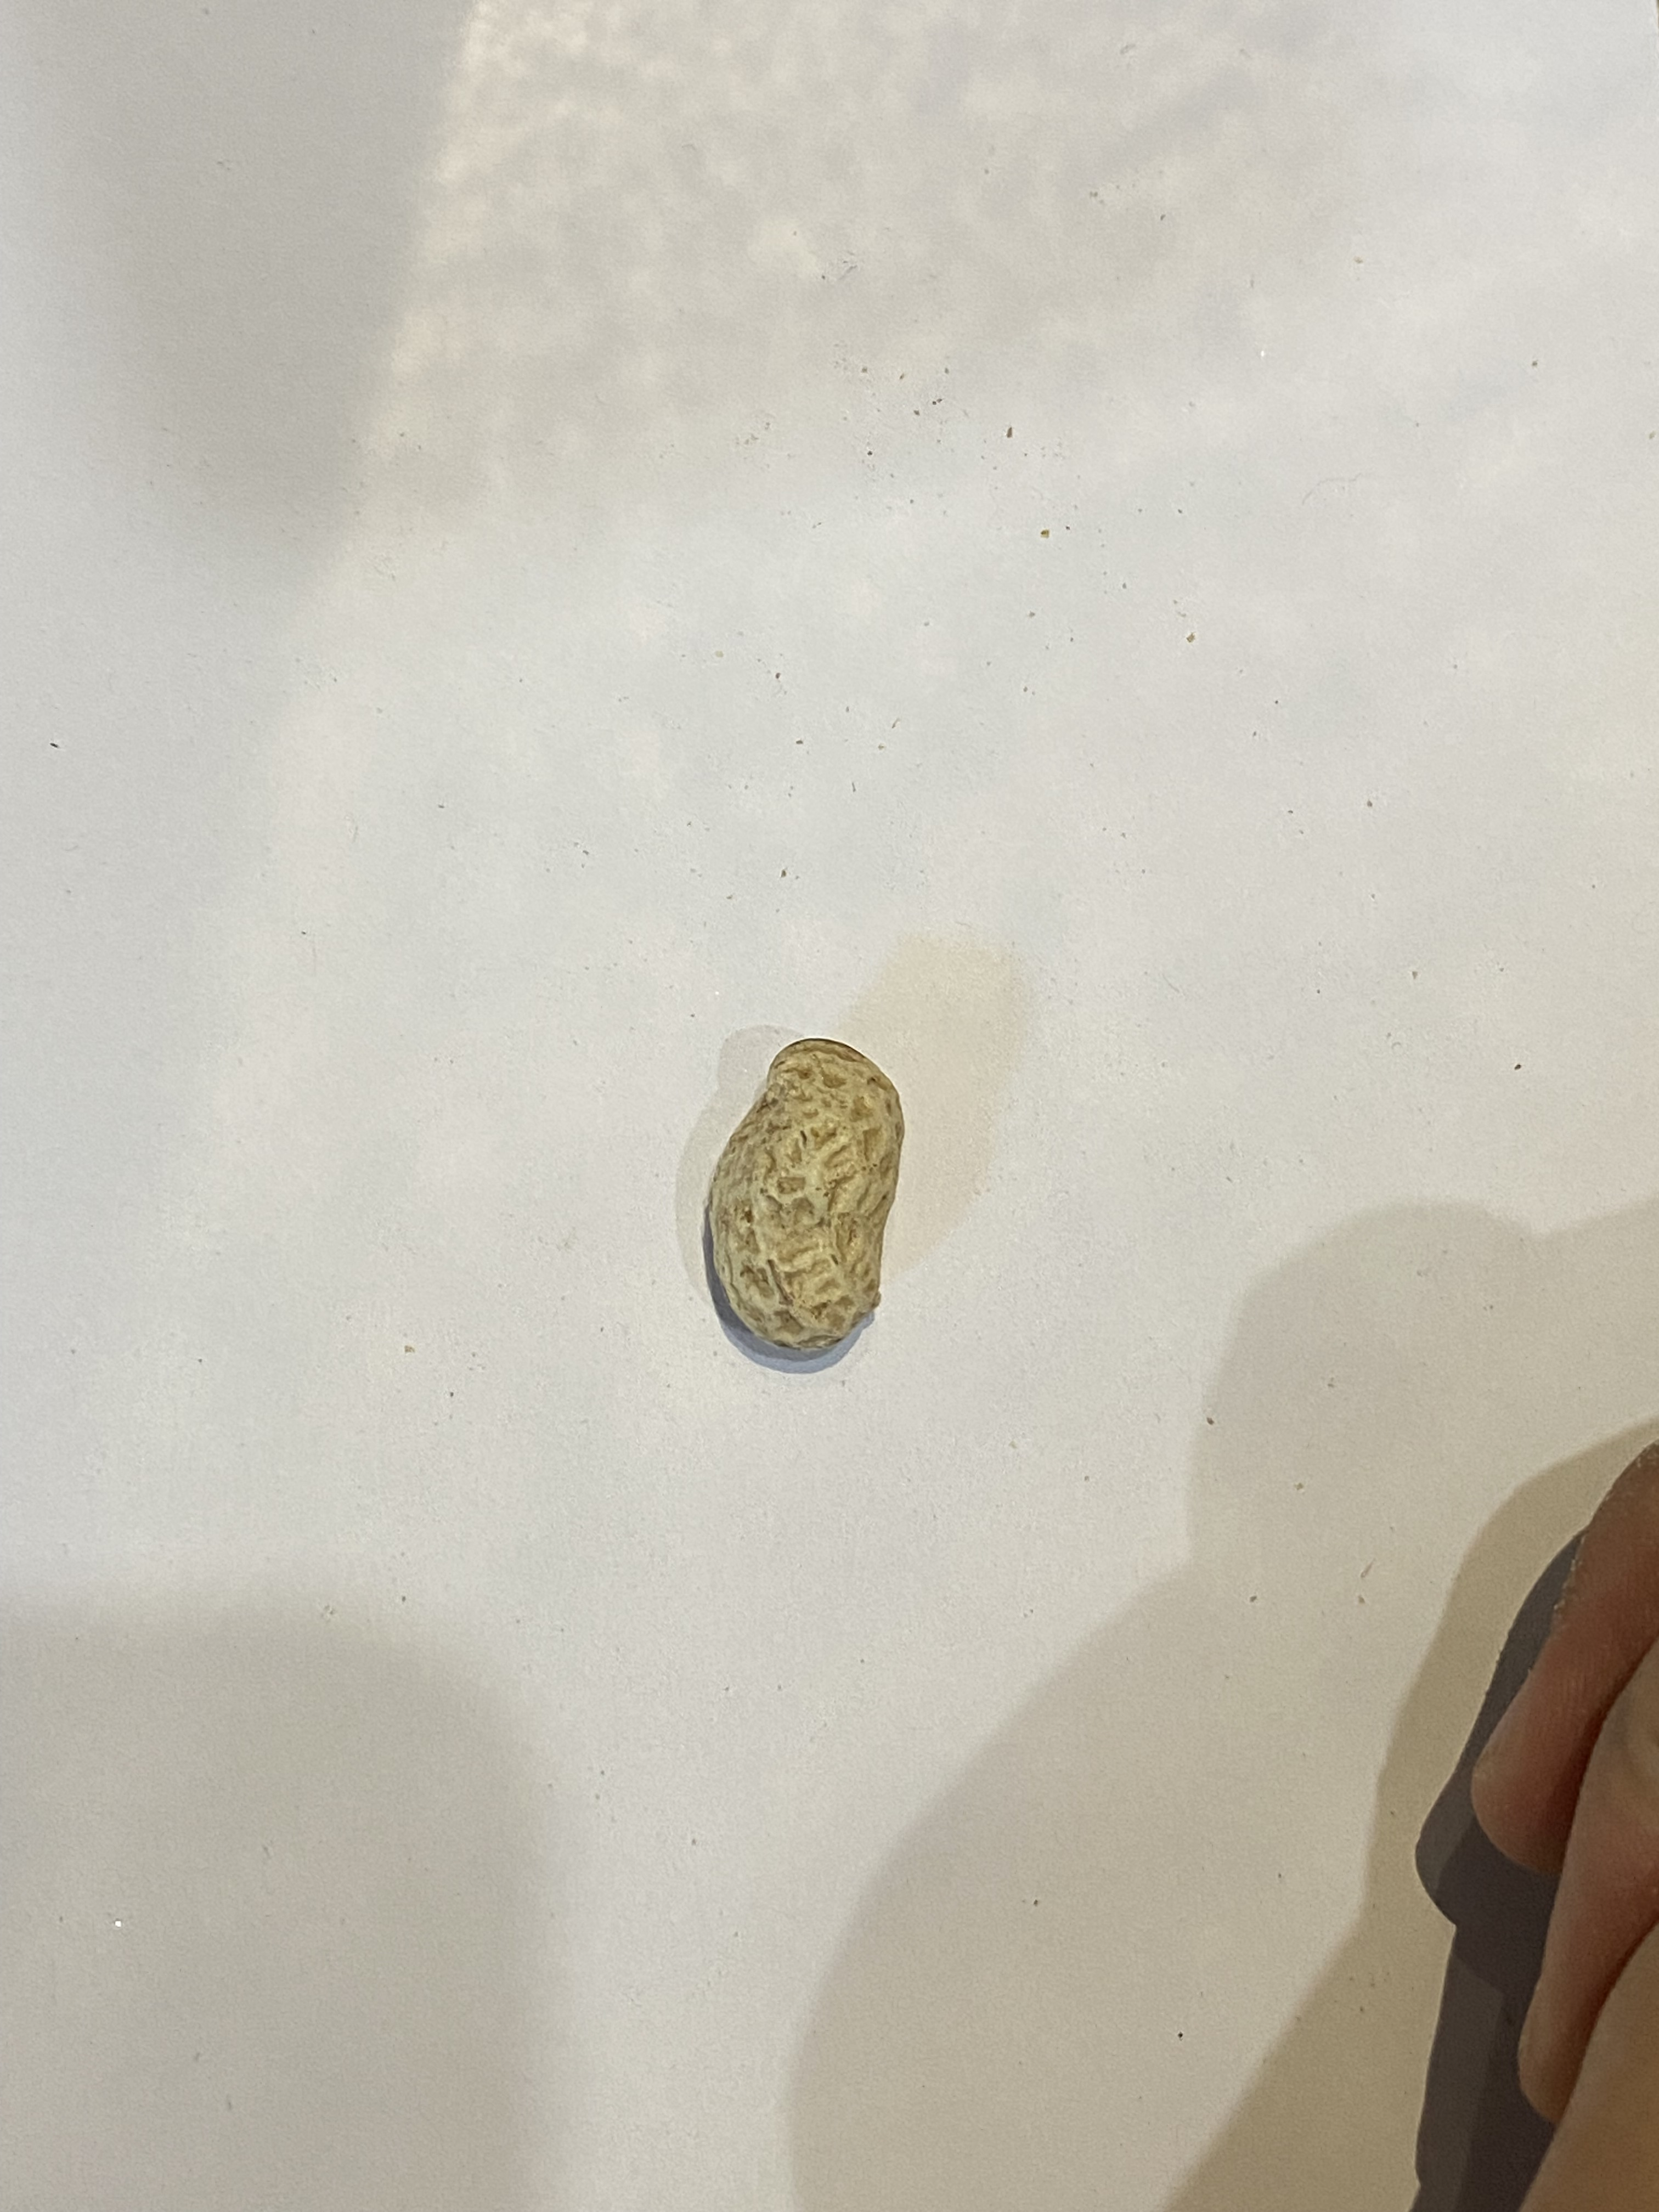kacang1: (704, 1021, 910, 1371)
